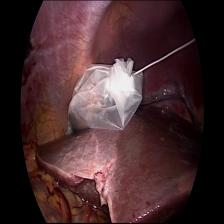Specimen Bag: (58, 54, 143, 150)
